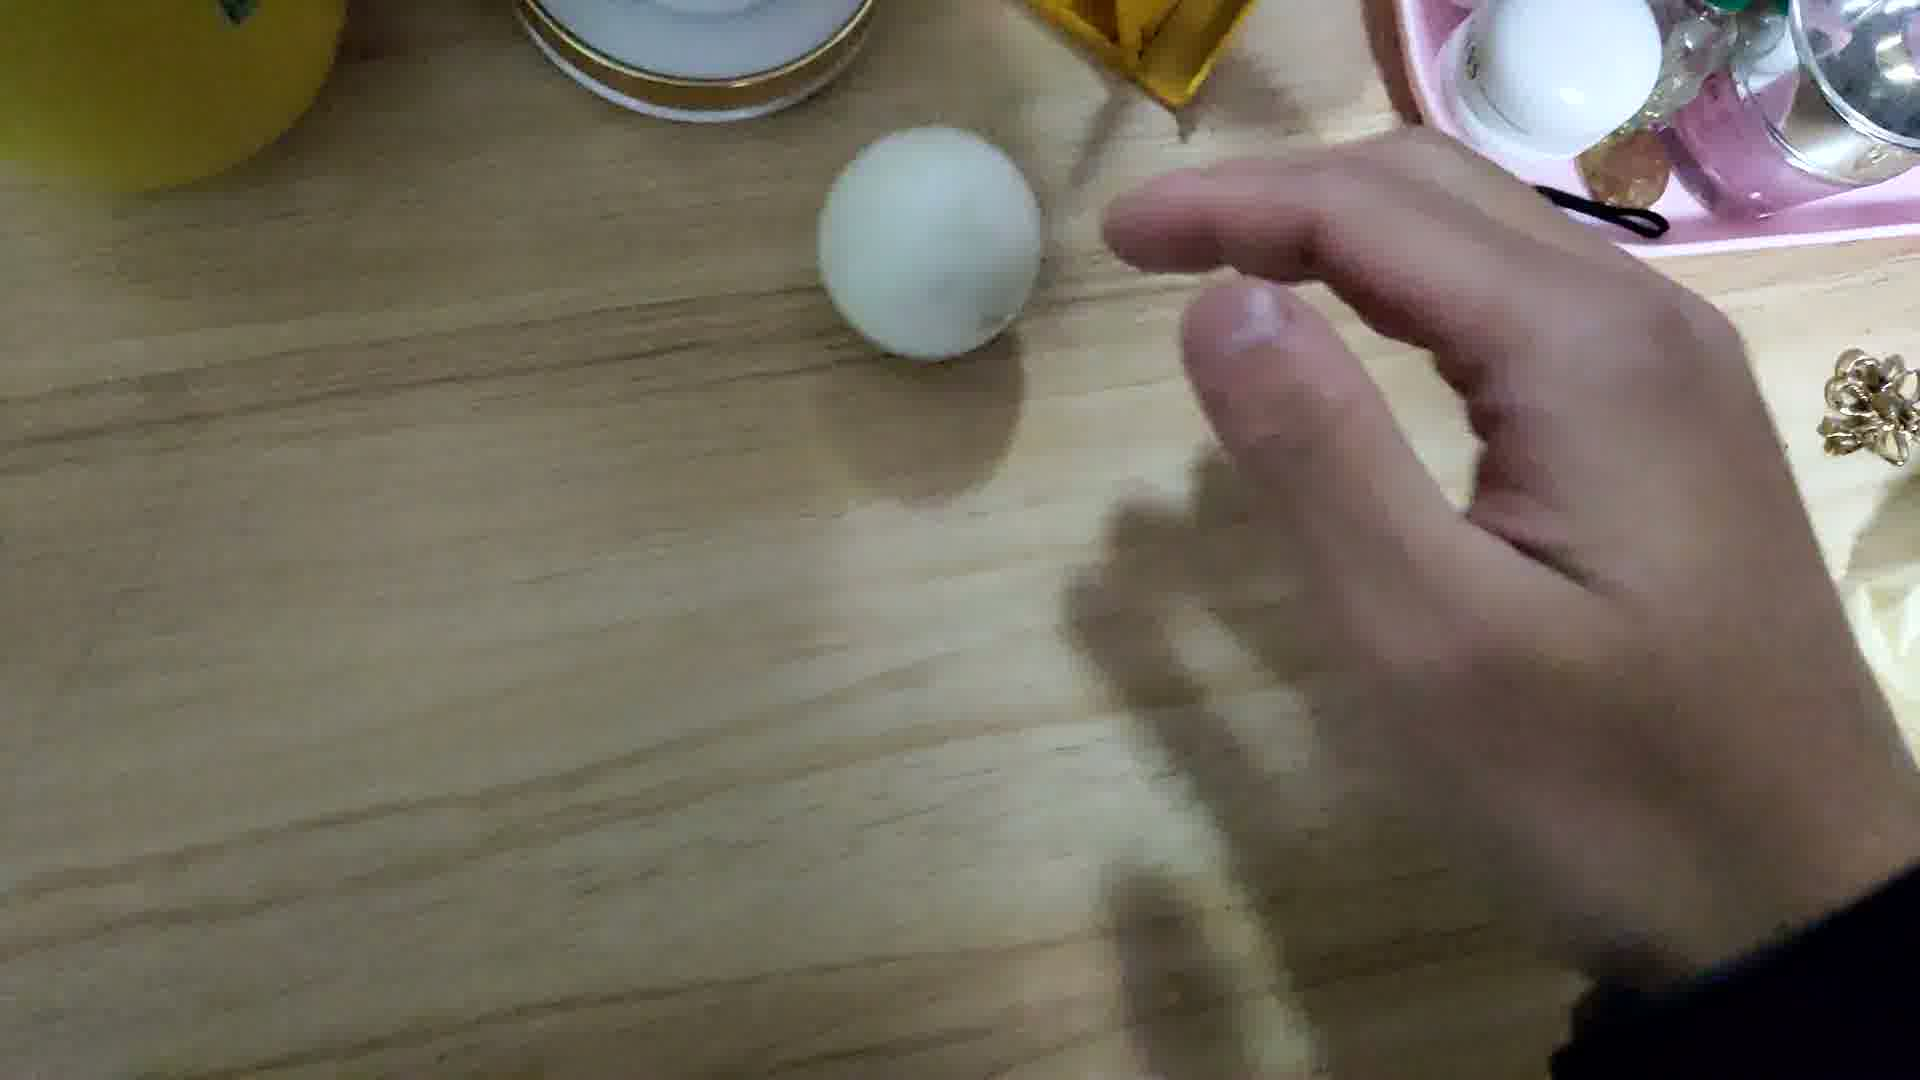Ball: (818, 121, 1043, 363)
